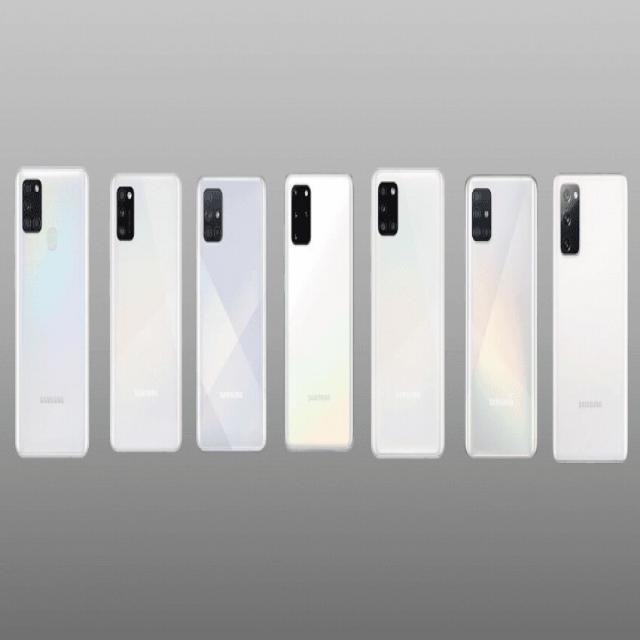phone: (370, 166, 446, 462), (552, 171, 628, 463), (15, 167, 90, 460), (464, 172, 538, 460), (108, 172, 183, 456), (195, 174, 268, 453), (282, 172, 354, 454)
